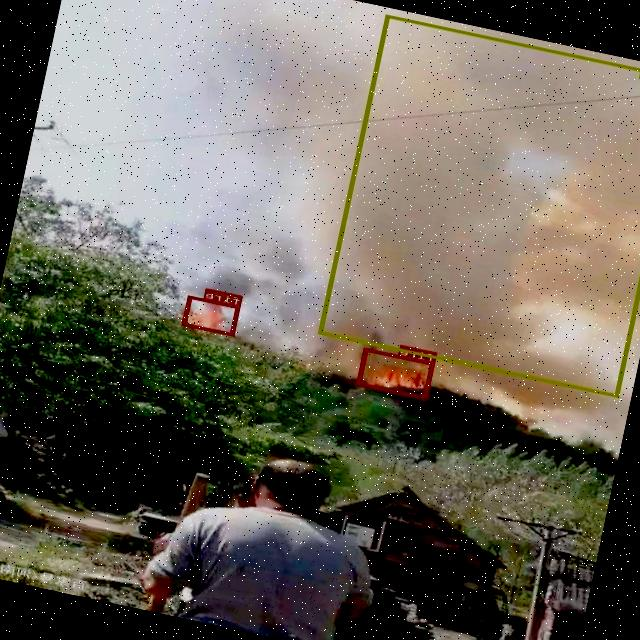fire: (357, 348, 435, 400), (182, 294, 240, 336)
smoke: (318, 14, 640, 397)
